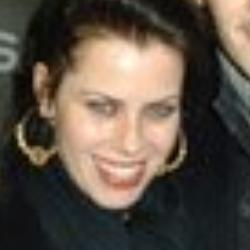face: (2, 4, 225, 217)
